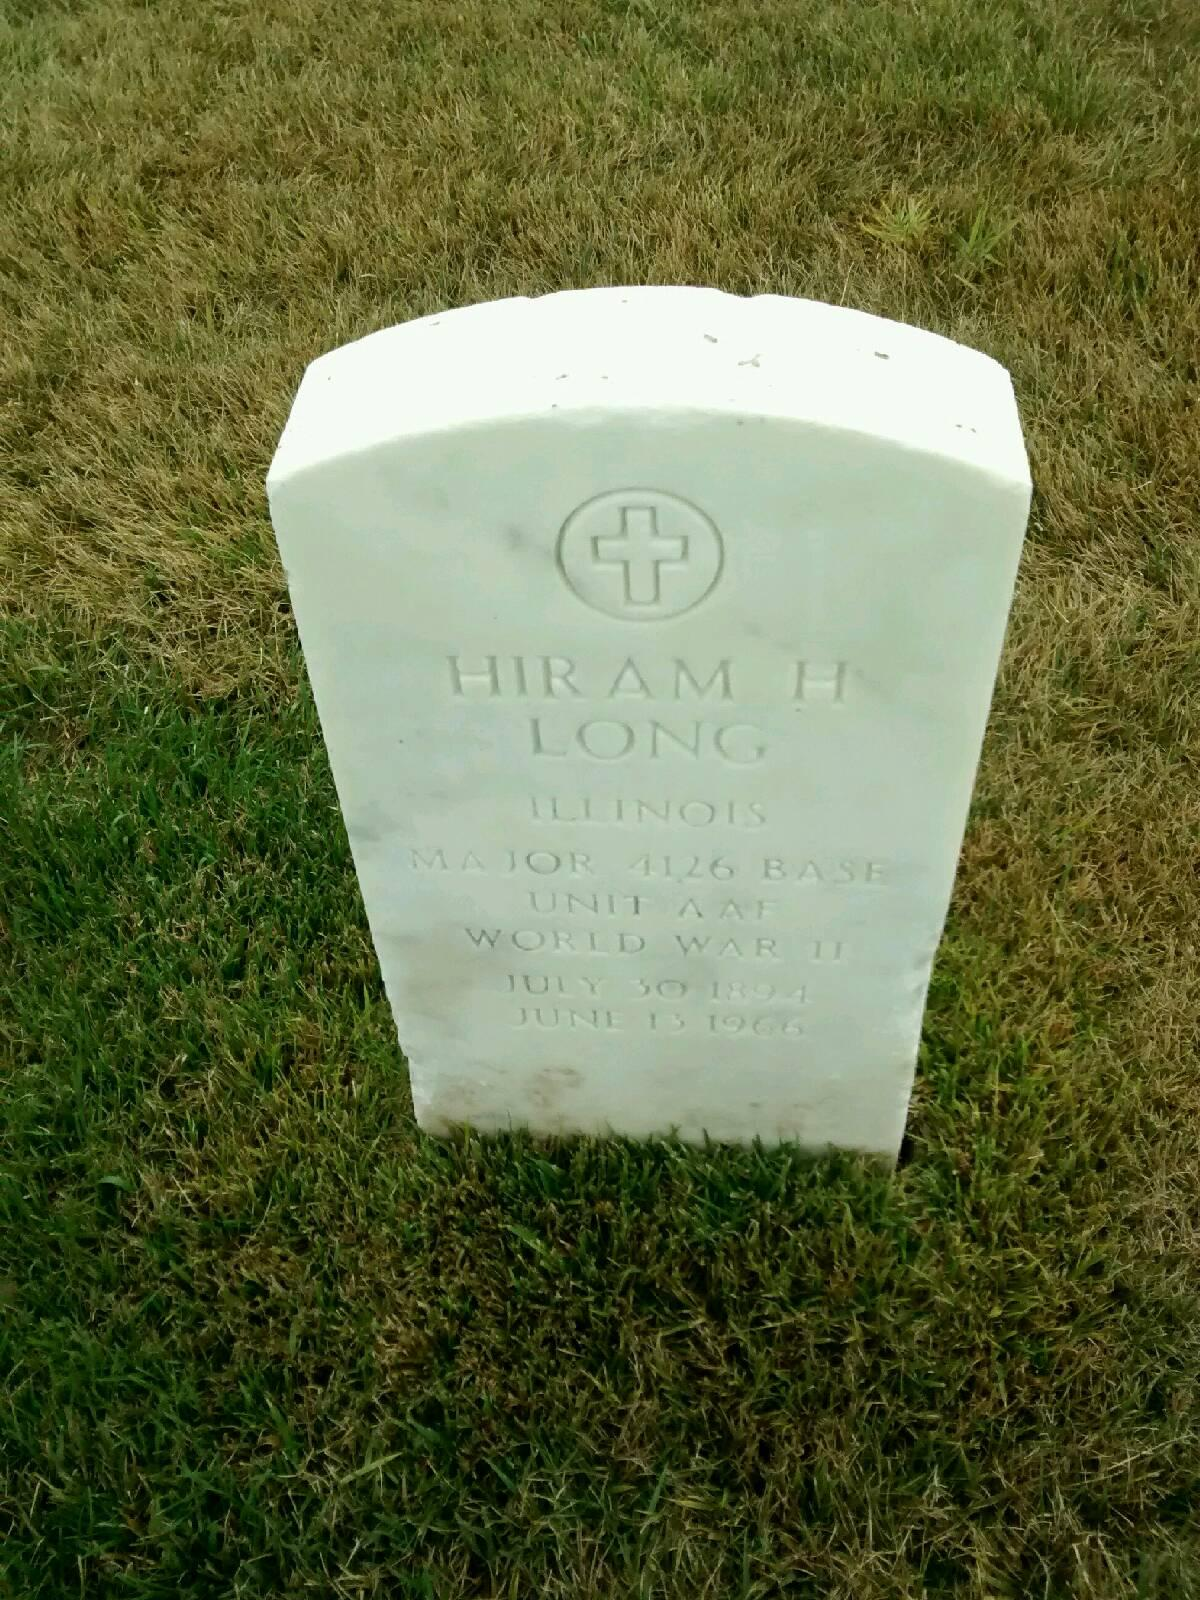military: (268, 281, 1035, 1168)
